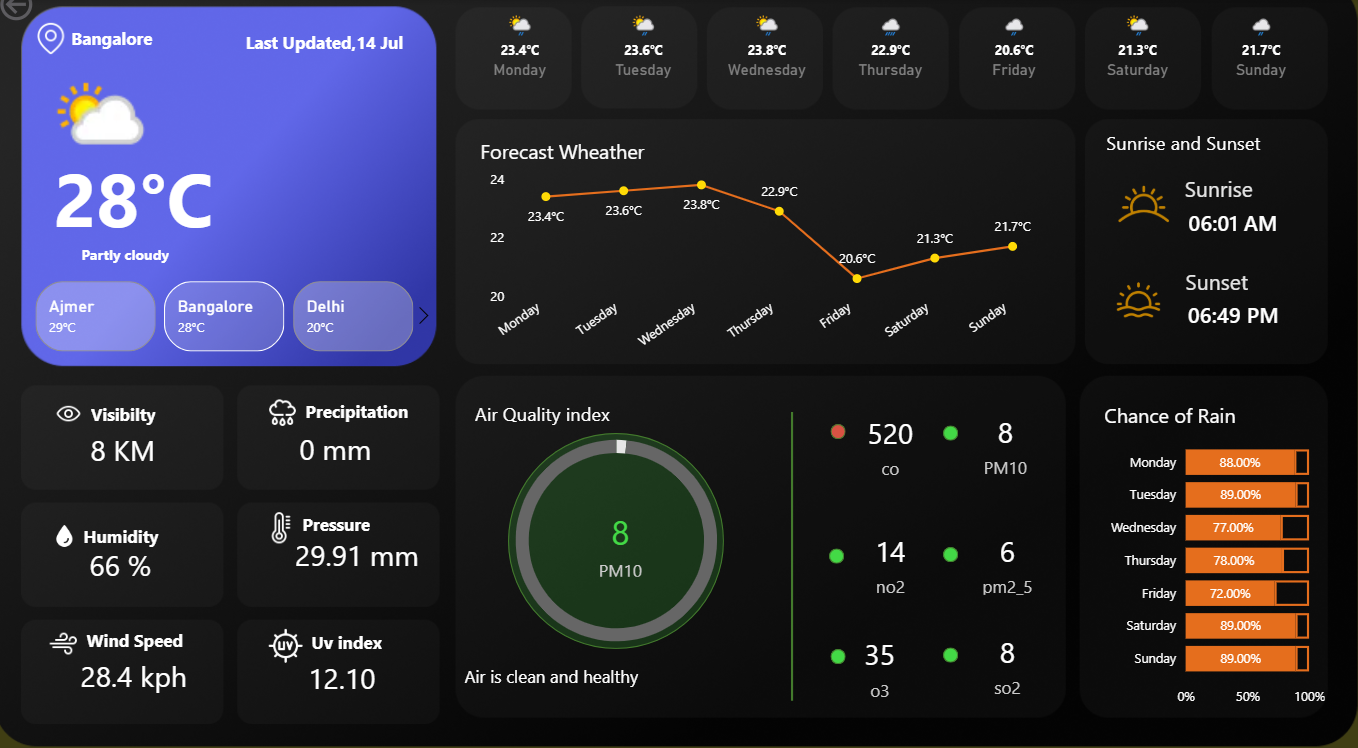

What the dashboard file says about the page in this screenshot:
{"tool":"powerbi","page":{"name":"Page 1","canvas":[1280,720],"ordinal":0},"visuals":[{"type":"shape","box":[0,139.5,260.3,122.2],"z":0},{"type":"actionButton","box":[0,0,100,40],"z":1000},{"type":"shape","box":[49.4,225.5,146,58],"z":2000},{"type":"shape","box":[15.3,21.9,188.5,59.2],"z":3000},{"type":"shape","box":[223.6,26.3,171,57],"z":4000},{"type":"image","box":[32.9,26.3,39.5,50.4],"z":5000},{"type":"cardVisual","fields":{"Data":["Min(current.current.condition.icon)"]},"box":[36.6,26.8,136.6,180.3],"z":6000},{"type":"image","title":"Visibilty","box":[51.1,362.6,36.3,84.1],"z":7000},{"type":"shape","box":[90.2,330.7,324.3,148.2],"z":8000},{"type":"shape","box":[83.8,444.6,324.3,148.2],"z":9000},{"type":"shape","box":[85.7,543.9,324.7,146.7],"z":10000},{"type":"shape","box":[292.1,328.6,324.3,148.2],"z":11000},{"type":"shape","box":[288.4,433.4,323,148.3],"z":12000},{"type":"shape","box":[296.7,545.5,324.7,146.7],"z":13000},{"type":"image","box":[44.5,598.3,37.9,42.9],"z":14000},{"type":"image","box":[40.8,502.6,49,32],"z":15000},{"type":"image","box":[247.2,491.1,41.2,39.6],"z":16000},{"type":"image","box":[247.2,599.9,49.4,44.5],"z":17000},{"type":"image","box":[249.1,378,40.8,51.5],"z":18000},{"type":"card","fields":{"Values":["Table.wind_speed"]},"box":[66.8,615.7,127.6,70.9],"z":19000},{"type":"card","fields":{"Values":["Table.Humidity"]},"box":[70.9,512.6,93.9,69.2],"z":20000},{"type":"card","fields":{"Values":["Sum(current.current.uv)"]},"box":[271.9,616.4,107.1,72.5],"z":21000},{"type":"card","fields":{"Values":["Table.pressure"]},"box":[269.2,510.8,141.1,53.5],"z":22000},{"type":"card","fields":{"Values":["Table.precipitation"]},"box":[261.3,403,117.5,70.9],"z":23000},{"type":"card","fields":{"Values":["Table.visibilty"]},"box":[65.9,402.1,107.1,72.5],"z":24000},{"type":"advancedSlicerVisual","fields":{"Values":["location.location.name"]},"box":[12.7,274.6,405.6,76.1],"z":25000},{"type":"advancedSlicerVisual","fields":{"Values":["forcastday.day_name"]},"box":[433.2,21,816,86.2],"z":26000},{"type":"lineChart","title":"Forecast Wheather","fields":{"Y":["Sum(forcastday.forecast.forecastday.day.avgtemp_c)"],"Category":["forcastday.day_name"]},"box":[450.5,144.9,538.7,212.6],"z":27000},{"type":"shape","box":[1044.3,132.3,146.5,34.7],"z":28000},{"type":"shape","box":[1072.3,189.2,181.5,72.3],"z":29000},{"type":"shape","box":[1063.1,250.8,167.7,58.5],"z":30000},{"type":"shape","box":[1043.1,167.7,210.8,50.8],"z":31000},{"type":"shape","box":[1060,281.5,204.6,60],"z":32000},{"type":"image","box":[1030.8,170.8,95.4,73.8],"z":33000},{"type":"image","box":[1038.5,272.3,70.8,50.8],"z":34000},{"type":"hundredPercentStackedBarChart","title":"Chance of Rain","fields":{"Y":["Sum(forcastday.forecast.forecastday.day.daily_chance_of_rain)","Table.Left_value_rain"],"Category":["forcastday.day_name"]},"box":[1036.9,392.3,216.9,295.4],"z":35000},{"type":"shape","box":[450.5,387.5,146.5,34.7],"z":36000},{"type":"card","fields":{"Values":["Sum(current.current.air_quality.pm10)"]},"box":[885.1,397,127.6,70.9],"z":37000},{"type":"card","fields":{"Values":["Sum(current.current.air_quality.pm2_5)"]},"box":[885.3,509.7,128.8,69.8],"z":38000},{"type":"card","fields":{"Values":["Sum(current.current.air_quality.so2)"]},"box":[885.3,604.5,128.8,69.8],"z":39000},{"type":"card","fields":{"Values":["Sum(current.current.air_quality.co)"]},"box":[776.2,398.9,128.8,69.8],"z":40000},{"type":"card","fields":{"Values":["Sum(current.current.air_quality.no2)"]},"box":[776.2,509.7,128.8,69.8],"z":41000},{"type":"card","fields":{"Values":["Sum(current.current.air_quality.o3)"]},"box":[776.5,606.4,108.7,69.3],"z":42000},{"type":"shape","box":[784.8,413.8,14.3,14.3],"z":43000},{"type":"shape","box":[784.8,626,14.3,14.3],"z":44000},{"type":"shape","box":[890,624.3,14.3,14.3],"z":45000},{"type":"shape","box":[890,529.7,14.3,14.3],"z":46000},{"type":"shape","box":[890,415.6,14.3,14.3],"z":47000},{"type":"shape","box":[783,531.5,14.3,14.3],"z":48000},{"type":"shape","box":[695.6,403.1,105.2,271.1],"z":49000},{"type":"shape","box":[481.7,422.5,202.8,202.8],"z":50000},{"type":"card","fields":{"Values":["Sum(current.current.air_quality.pm10)"]},"box":[524.6,492.2,125.6,70.9],"z":51000},{"type":"donutChart","fields":{"Y":["Sum(current.current.air_quality.pm10)","Table.left value pm10"]},"box":[416.9,400,332.4,246.5],"z":52000},{"type":"shape","box":[440.8,581.7,314.1,138],"z":53000}]}

Visuals, with their boxes in screenshot pixels (x1, y1, x2, y2), scaled from the page's 1280x720 canvas onto the 1358x748 screenshot:
shape: l=0, t=145, r=276, b=272
actionButton: l=0, t=0, r=106, b=42
shape: l=52, t=234, r=207, b=295
shape: l=16, t=23, r=216, b=84
shape: l=237, t=27, r=419, b=87
image: l=35, t=27, r=77, b=80
cardVisual - Min(current.current.condition.icon): l=39, t=28, r=184, b=215
"Visibilty" image: l=54, t=377, r=93, b=464
shape: l=96, t=344, r=440, b=498
shape: l=89, t=462, r=433, b=616
shape: l=91, t=565, r=435, b=717
shape: l=310, t=341, r=654, b=495
shape: l=306, t=450, r=649, b=604
shape: l=315, t=567, r=659, b=719
image: l=47, t=622, r=87, b=666
image: l=43, t=522, r=95, b=555
image: l=262, t=510, r=306, b=551
image: l=262, t=623, r=315, b=669
image: l=264, t=393, r=308, b=446
card - Table.wind_speed: l=71, t=640, r=206, b=713
card - Table.Humidity: l=75, t=533, r=175, b=604
card - Sum(current.current.uv): l=288, t=640, r=402, b=716
card - Table.pressure: l=286, t=531, r=435, b=586
card - Table.precipitation: l=277, t=419, r=402, b=492
card - Table.visibilty: l=70, t=418, r=184, b=493
advancedSlicerVisual - location.location.name: l=13, t=285, r=444, b=364
advancedSlicerVisual - forcastday.day_name: l=460, t=22, r=1325, b=111
"Forecast Wheather" lineChart: l=478, t=151, r=1049, b=371
shape: l=1108, t=137, r=1263, b=173
shape: l=1138, t=197, r=1330, b=272
shape: l=1128, t=261, r=1306, b=321
shape: l=1107, t=174, r=1330, b=227
shape: l=1125, t=292, r=1342, b=355
image: l=1094, t=177, r=1195, b=254
image: l=1102, t=283, r=1177, b=336
"Chance of Rain" hundredPercentStackedBarChart: l=1100, t=408, r=1330, b=714
shape: l=478, t=403, r=633, b=439
card - Sum(current.current.air_quality.pm10): l=939, t=412, r=1074, b=486
card - Sum(current.current.air_quality.pm2_5): l=939, t=530, r=1076, b=602
card - Sum(current.current.air_quality.so2): l=939, t=628, r=1076, b=701
card - Sum(current.current.air_quality.co): l=823, t=414, r=960, b=487
card - Sum(current.current.air_quality.no2): l=823, t=530, r=960, b=602
card - Sum(current.current.air_quality.o3): l=824, t=630, r=939, b=702
shape: l=833, t=430, r=848, b=445
shape: l=833, t=650, r=848, b=665
shape: l=944, t=649, r=959, b=663
shape: l=944, t=550, r=959, b=565
shape: l=944, t=432, r=959, b=447
shape: l=831, t=552, r=846, b=567
shape: l=738, t=419, r=850, b=700
shape: l=511, t=439, r=726, b=650
card - Sum(current.current.air_quality.pm10): l=557, t=511, r=690, b=585
donutChart - Sum(current.current.air_quality.pm10) x Table.left value pm10: l=442, t=416, r=795, b=672
shape: l=468, t=604, r=801, b=747
